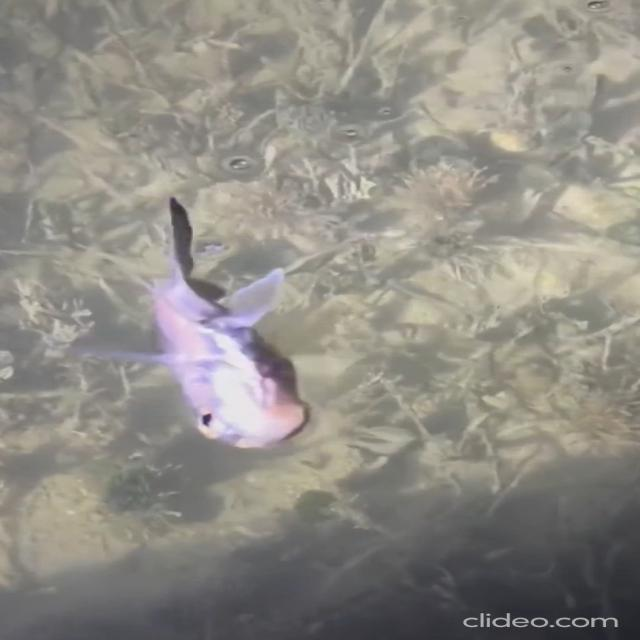fish: (59, 188, 337, 458)
